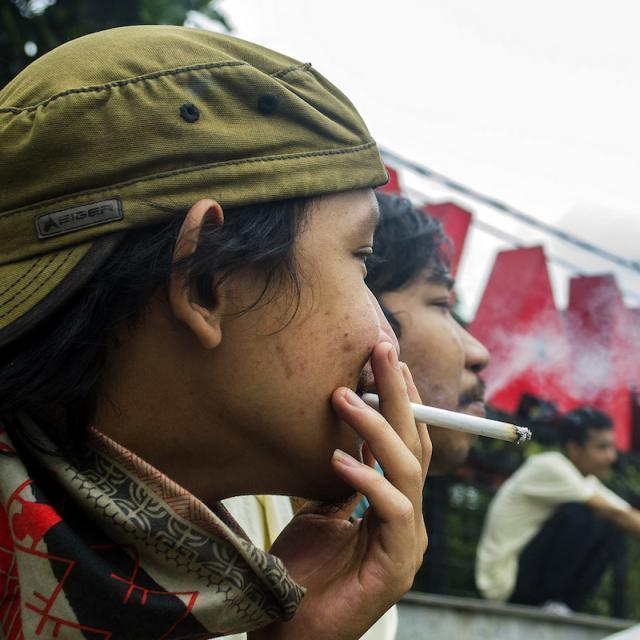rokok: (362, 384, 540, 450)
